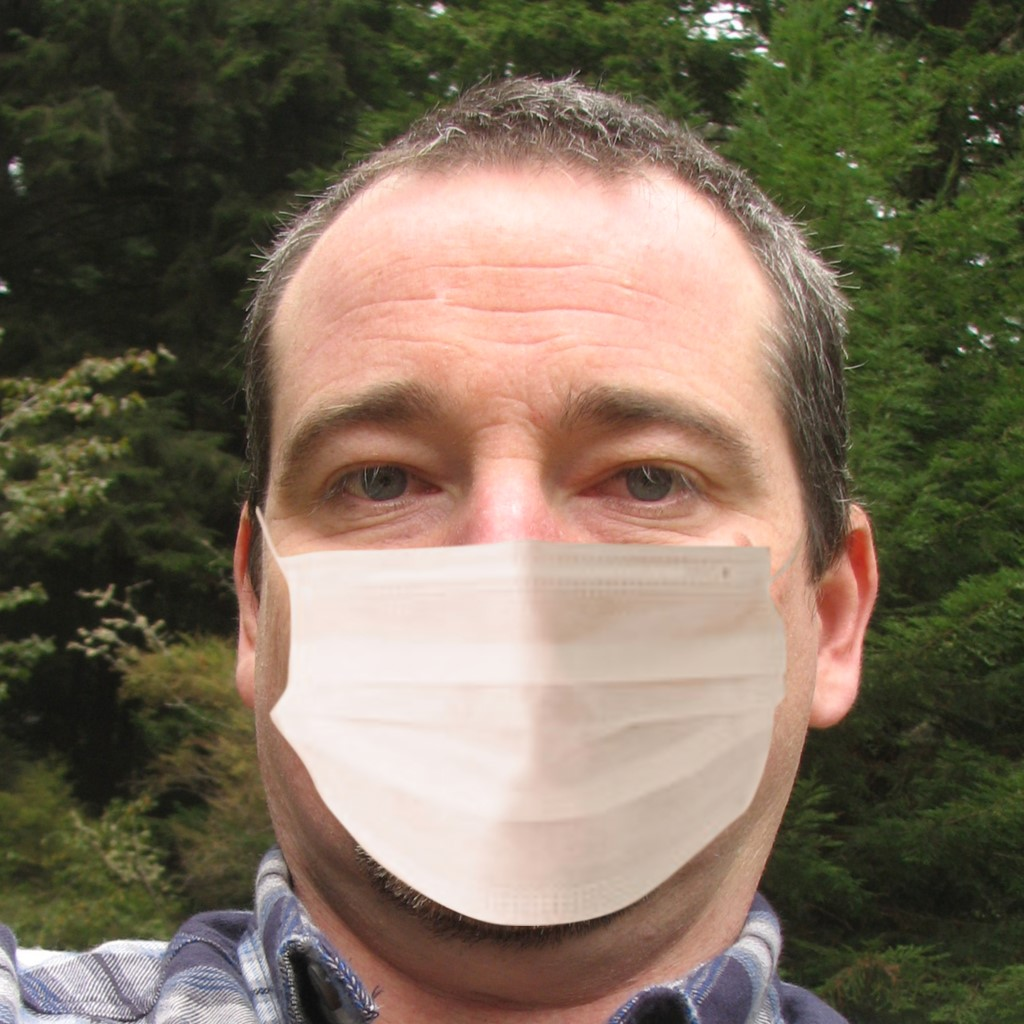con_mascara: (242, 127, 822, 951)
